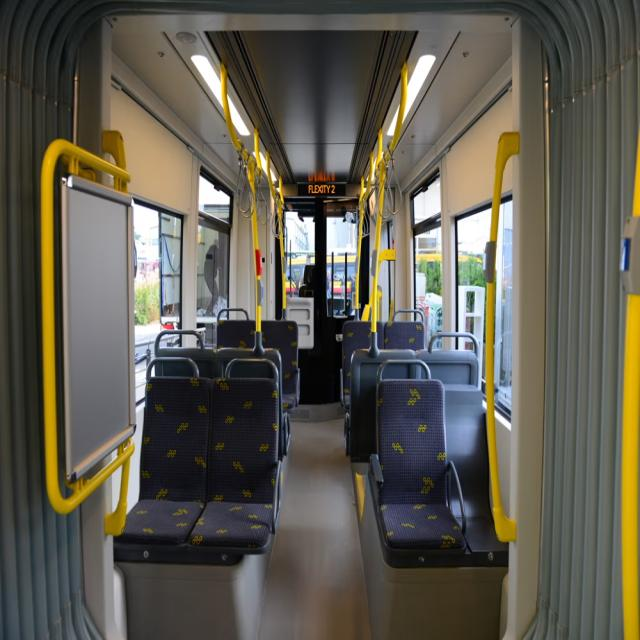asiento-libre: (114, 375, 212, 551), (183, 375, 280, 551), (374, 377, 466, 556), (259, 319, 300, 404), (342, 319, 381, 401), (216, 318, 256, 381), (383, 319, 426, 361)
